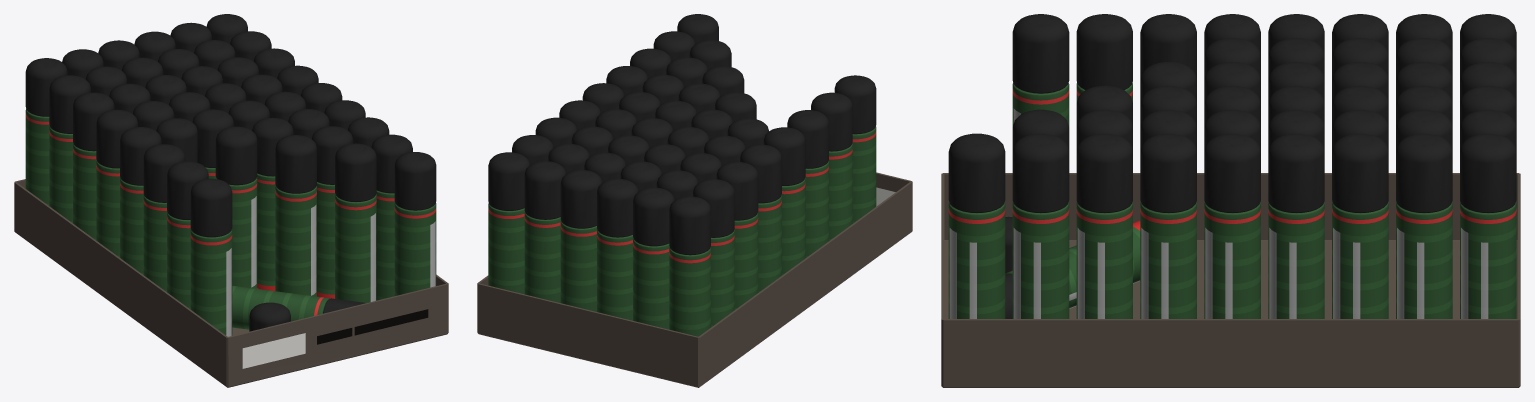
The model's file is SM_SpayCan_Pk_Taken_D.fbx.
3 views of the same model, side by side, from view 1: azimuth 30°, elevation 25°; view 2: azimuth 150°, elevation 25°; view 3: azimuth 270°, elevation 25° (orthographic). The views are drawn at different scales.
Visible parts, largest first — view 1: SM_SpayCan_Pk_Taken_D; view 2: SM_SpayCan_Pk_Taken_D; view 3: SM_SpayCan_Pk_Taken_D.
Part boxes in pixels (bbox=[...]): SM_SpayCan_Pk_Taken_D: bbox=[14, 14, 448, 387]; SM_SpayCan_Pk_Taken_D: bbox=[477, 14, 912, 387]; SM_SpayCan_Pk_Taken_D: bbox=[941, 14, 1520, 387].
Size of the model in its own units: 53.95 by 40.18 by 89.8.
